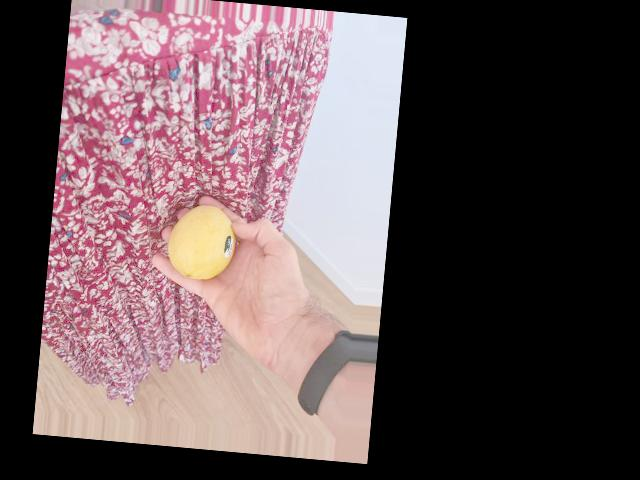lemon: (168, 202, 240, 280)
